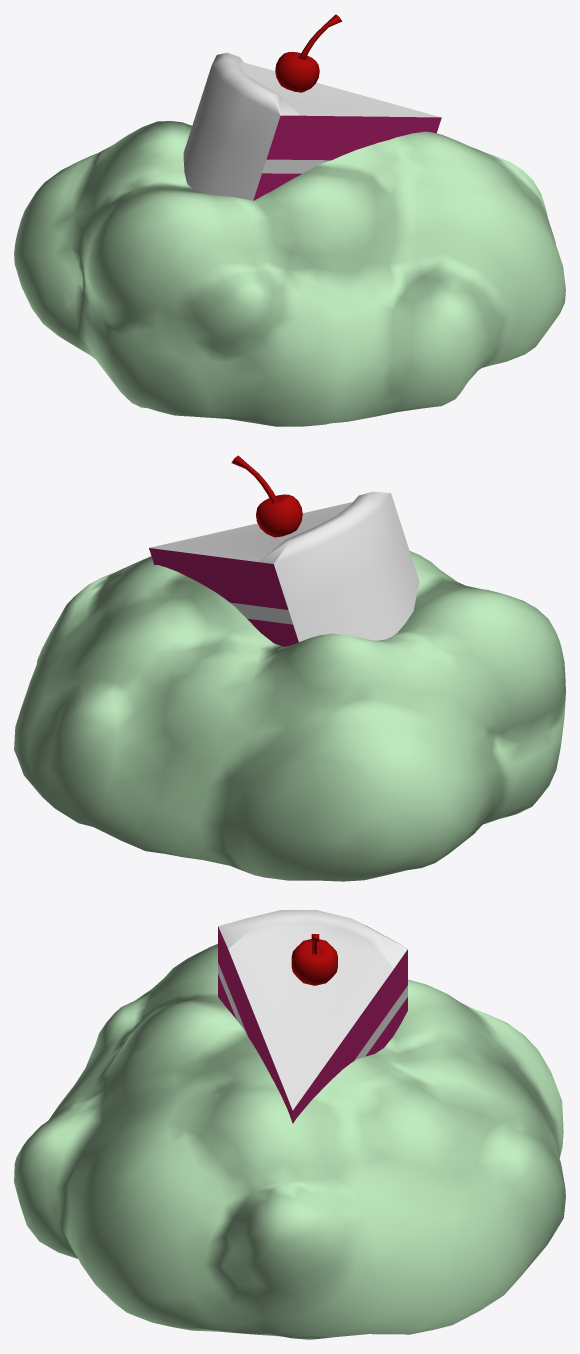
File: CakeBlob.fbx
3 renders of one model, top to bottom at view 1: azimuth 30°, elevation 25°; view 2: azimuth 150°, elevation 25°; view 3: azimuth 270°, elevation 25°, orthographic. The views are drawn at different scales.
Parts seen in each view (by area): view 1: pCylinder5; view 2: pCylinder5; view 3: pCylinder5.
Boxes of the visible parts, x1,y1,x2,y2 form: pCylinder5: [14, 14, 565, 426]; pCylinder5: [14, 455, 565, 881]; pCylinder5: [14, 910, 565, 1339].
Size of the model in its own units: 3.57 by 2.41 by 3.52.
